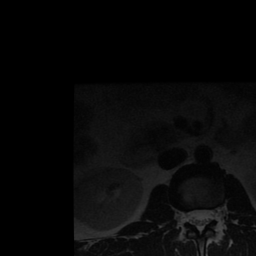CCS_normal: (196, 201, 205, 238)
LFS_normal: (213, 200, 221, 228)
LLS_normal: (205, 201, 213, 232)
RFS_normal: (179, 202, 187, 231)
RLS_normal: (187, 202, 196, 231)
